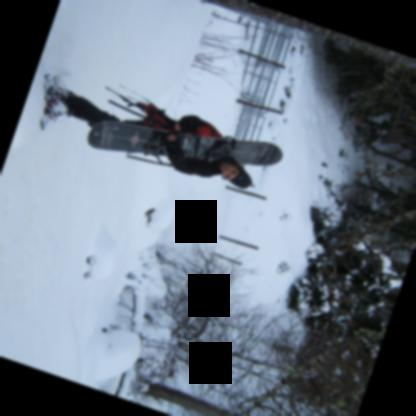backpack: (134, 101, 222, 137)
